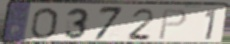1: (203, 9, 217, 42)
2: (127, 7, 155, 41)
3: (63, 8, 90, 41)
7: (92, 6, 125, 43)
O: (29, 6, 60, 40)
P: (157, 8, 189, 41)
